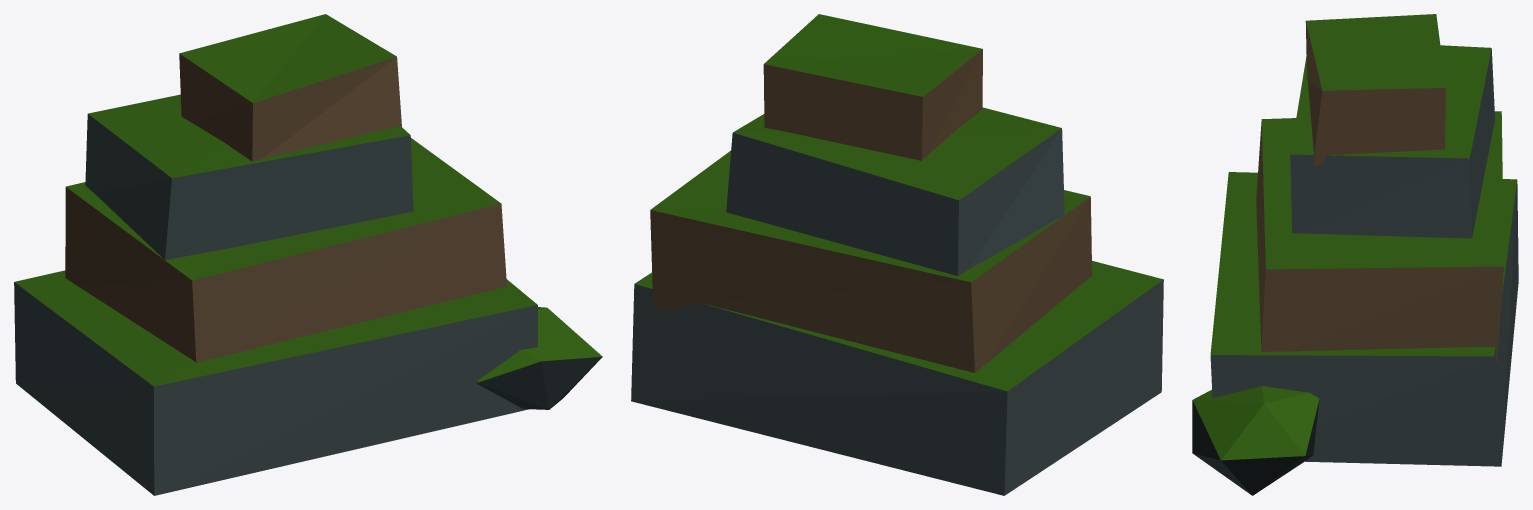
File: world_rocks_ledge.fbx
3 renders of one model, left to right at view 1: azimuth 30°, elevation 25°; view 2: azimuth 150°, elevation 25°; view 3: azimuth 270°, elevation 25°, orthographic. The views are drawn at different scales.
Visible parts, largest first — view 1: world_rocks_ledge; view 2: world_rocks_ledge; view 3: world_rocks_ledge.
Boxes of the visible parts, x1,y1,x2,y2 form: world_rocks_ledge: (14, 14, 602, 495); world_rocks_ledge: (631, 14, 1163, 495); world_rocks_ledge: (1192, 14, 1518, 495).
Bounding box in the file's own units: 1059 × 790 × 683.
